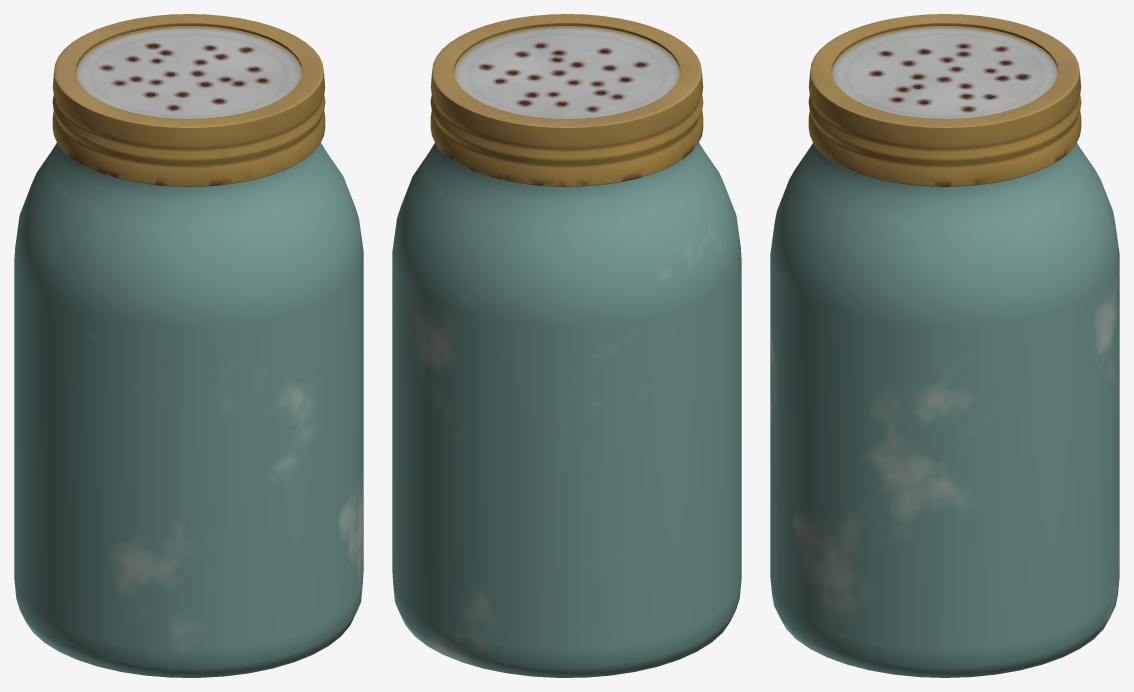
The model's file is FireflyJar.fbx.
The picture shows the model from 3 angles, left to right: view 1: azimuth 30°, elevation 25°; view 2: azimuth 150°, elevation 25°; view 3: azimuth 270°, elevation 25°; orthographic projection.
Visible parts, largest first — view 1: FireflyJar_Jar, FireflyJar_Lid; view 2: FireflyJar_Jar, FireflyJar_Lid; view 3: FireflyJar_Jar, FireflyJar_Lid.
Part boxes in pixels (bbox=[...]): FireflyJar_Jar: bbox=[14, 143, 363, 677]; FireflyJar_Lid: bbox=[52, 14, 325, 186]; FireflyJar_Jar: bbox=[392, 143, 741, 677]; FireflyJar_Lid: bbox=[430, 14, 703, 186]; FireflyJar_Jar: bbox=[770, 143, 1119, 677]; FireflyJar_Lid: bbox=[808, 14, 1081, 186].
Bounding box in the file's own units: 0.39 × 0.668 × 0.39.
2 materials, 2 textured.
